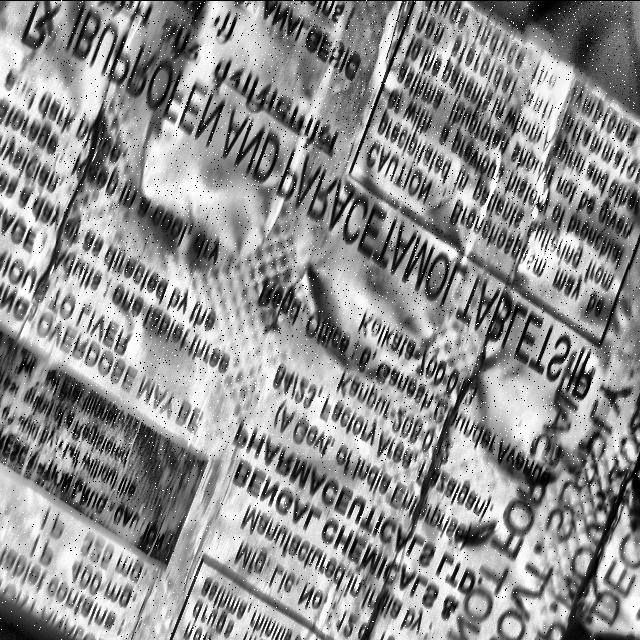IBUPROFEN AND PARACETAMOL TABLETS: (57, 0, 629, 459)
